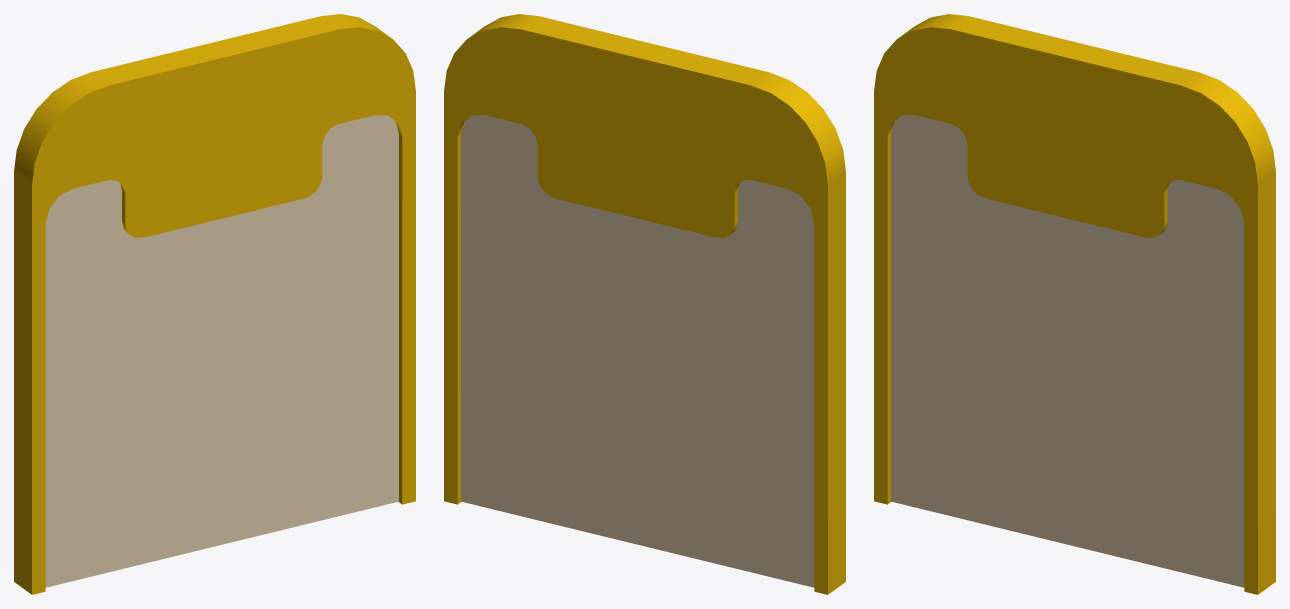
Rendered from Gate (1).fbx.
3 views of the same model, side by side, from view 1: azimuth 30°, elevation 25°; view 2: azimuth 150°, elevation 25°; view 3: azimuth 330°, elevation 25° (orthographic).
Visible parts, largest first — view 1: pCube2, pCube1; view 2: pCube2, pCube1; view 3: pCube2, pCube1.
Part boxes in pixels (x1,y1,x2,y2): pCube2: (45,115,398,587); pCube1: (14,14,415,594); pCube2: (461,115,814,587); pCube1: (444,14,845,594); pCube2: (891,115,1244,587); pCube1: (874,14,1275,594).
Size of the model in its own units: 99.84 by 122 by 8.13.
